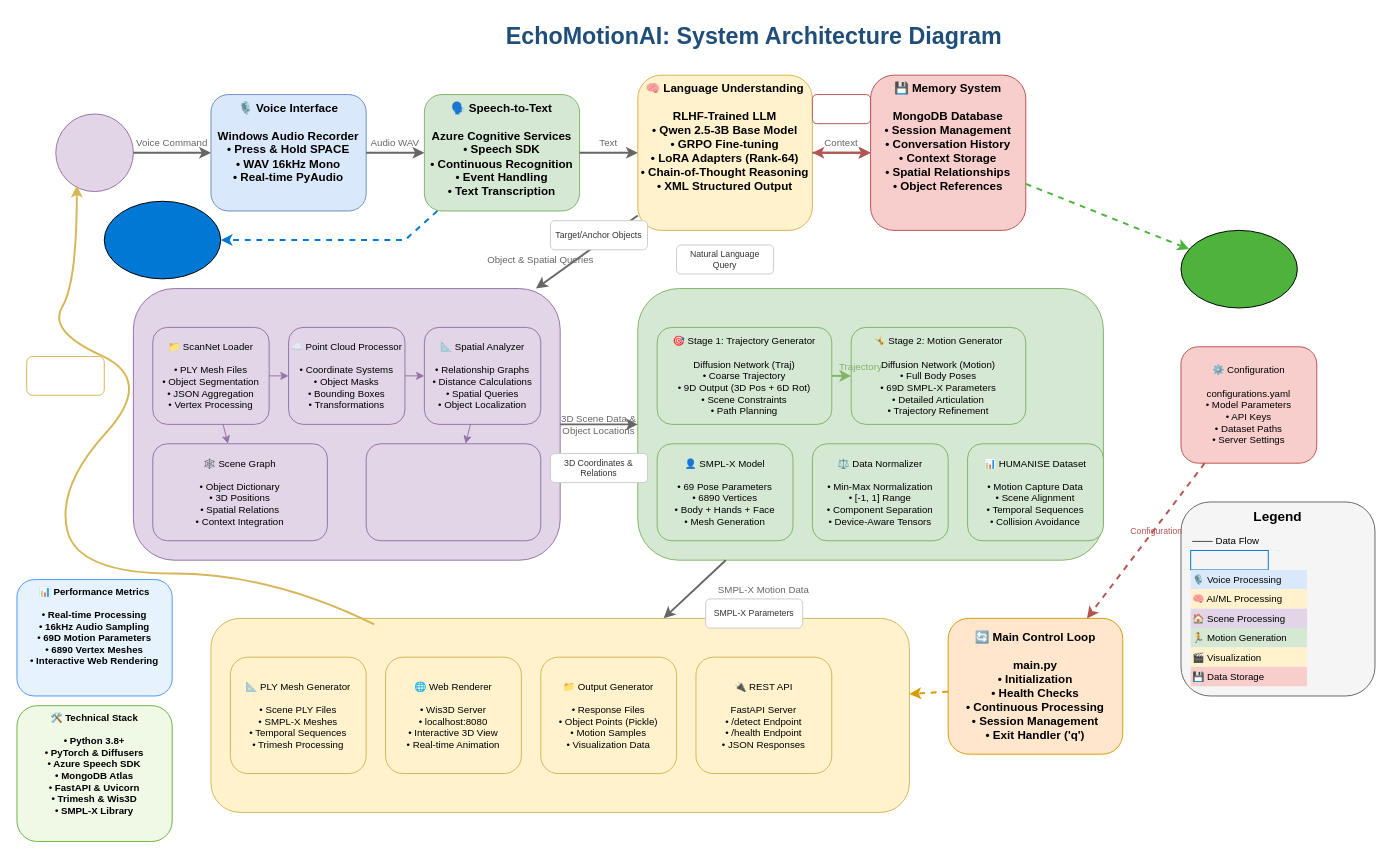
Image size: 1392x858. Some labels were removed from this diagram. The box of each missing label's shape, as (x1, y1, x2, y2) in pixels:
3D Animation Web Interface: (26, 356, 104, 395)
Context Retrieval: (811, 94, 871, 124)
┅┅┅ External API: (1190, 550, 1268, 570)
☁️ Azure Cognitive Services: (103, 200, 221, 279)
🍃 MongoDB Atlas: (1180, 229, 1297, 308)
🎬 Visualization & Output Module: (210, 617, 909, 812)
🏃 Motion Generation Module: (637, 288, 1103, 560)
🏠 Scene Understanding Module: (132, 288, 560, 560)
👤 User: (55, 113, 133, 192)
🧭 Coordinate Manager • HM Frame • OC Frame • ScanNet Frame • Transformations: (365, 443, 541, 541)
